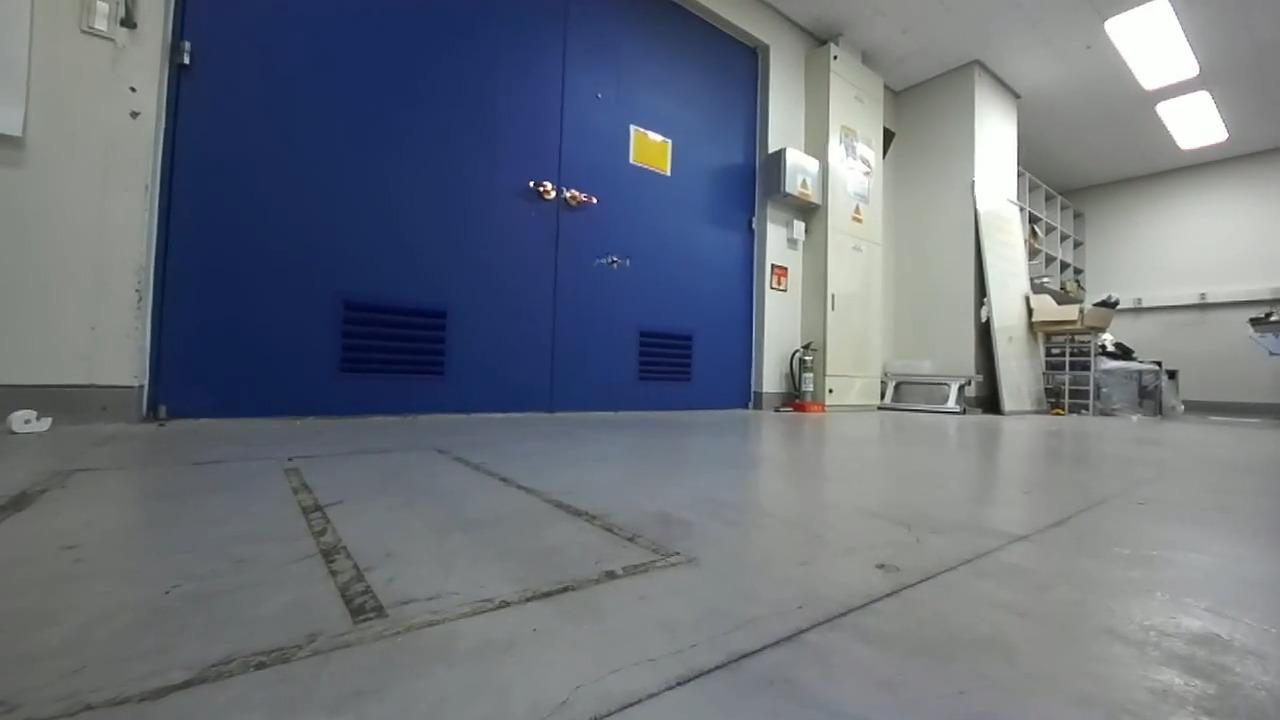crazyflie: (591, 250, 636, 273)
